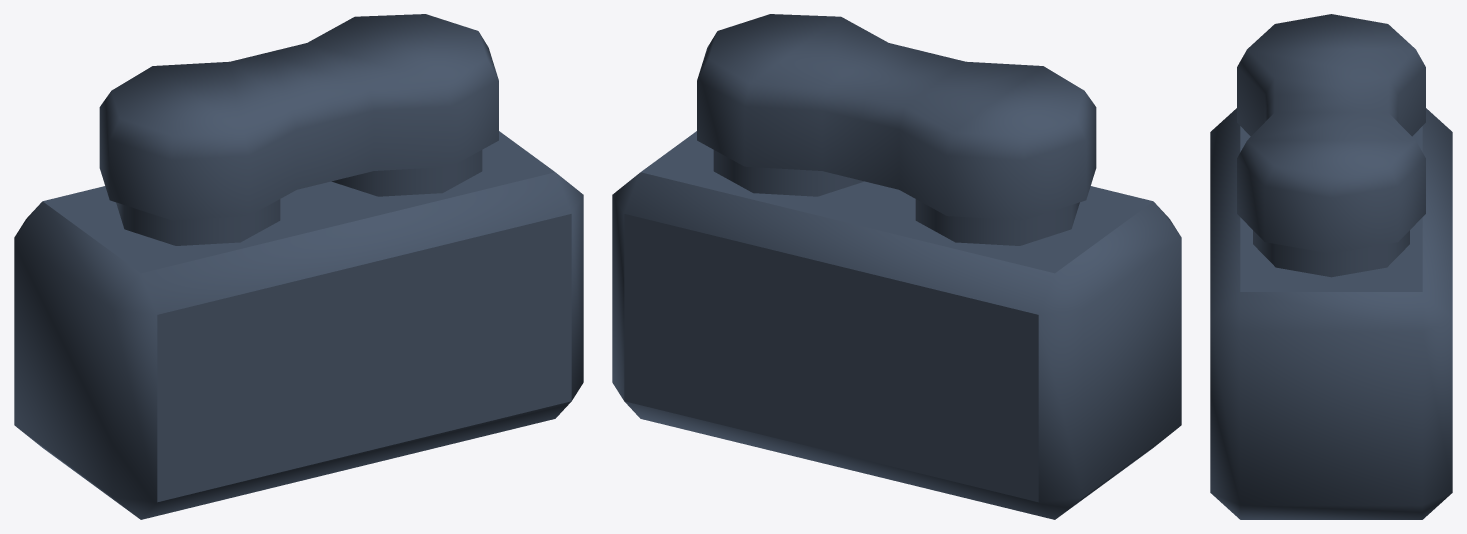
The model's file is acs17_part1_Device2.fbx.
3 views of the same model, side by side, from view 1: azimuth 30°, elevation 25°; view 2: azimuth 150°, elevation 25°; view 3: azimuth 270°, elevation 25° (orthographic). The views are drawn at different scales.
Parts seen in each view (by area): view 1: ChamferBox006, Cylinder058, Cylinder128, Cylinder122; view 2: ChamferBox006, Cylinder058, Cylinder128, Cylinder122; view 3: ChamferBox006, Cylinder058, Cylinder122.
Part boxes in pixels (left/top/right/bottom): ChamferBox006: left=14, top=131, right=583, bottom=519; Cylinder058: left=99, top=14, right=498, bottom=220; Cylinder128: left=116, top=199, right=280, bottom=245; Cylinder122: left=331, top=150, right=482, bottom=196; ChamferBox006: left=612, top=131, right=1181, bottom=519; Cylinder058: left=697, top=14, right=1096, bottom=220; Cylinder128: left=915, top=199, right=1079, bottom=245; Cylinder122: left=713, top=150, right=864, bottom=196; ChamferBox006: left=1210, top=108, right=1452, bottom=519; Cylinder058: left=1237, top=14, right=1425, bottom=253; Cylinder122: left=1253, top=230, right=1409, bottom=277.
Bounding box in the file's own units: 21.18 × 15.4 × 10.21.
